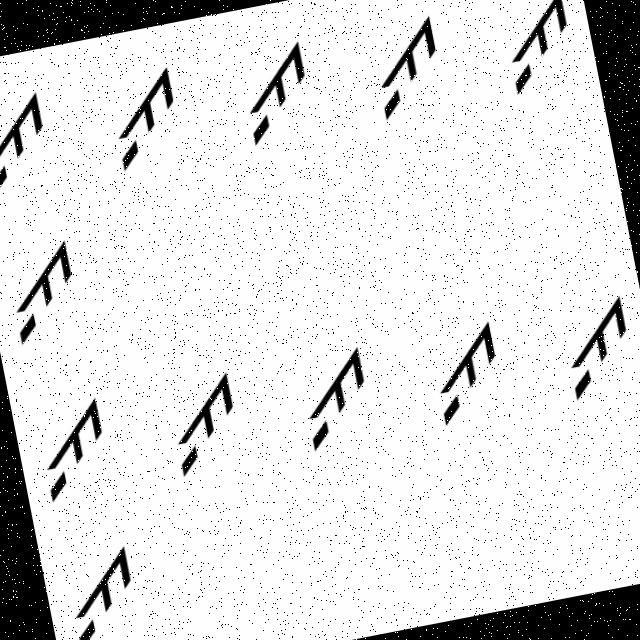ku: (134, 360, 256, 490), (278, 327, 387, 466), (410, 307, 517, 439), (48, 529, 173, 639), (222, 41, 324, 158), (356, 14, 456, 132), (540, 292, 639, 405), (28, 390, 124, 506), (100, 59, 196, 172), (479, 0, 587, 99), (0, 233, 93, 346), (0, 87, 74, 199)
